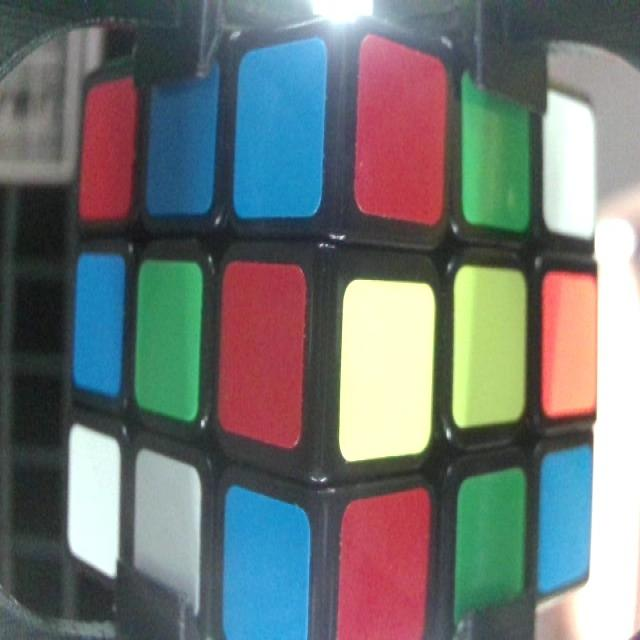b: (240, 74, 322, 192), (225, 513, 306, 632), (152, 88, 210, 197), (78, 272, 121, 379), (542, 464, 588, 564)
g: (464, 99, 529, 218), (140, 279, 198, 400), (460, 491, 524, 592)
o: (544, 293, 594, 402)
r: (361, 66, 443, 206), (224, 281, 298, 424), (342, 518, 424, 629), (84, 97, 134, 207)
w: (136, 470, 197, 598), (546, 103, 592, 228), (68, 452, 117, 556)
y: (344, 304, 427, 438), (457, 294, 524, 404)
